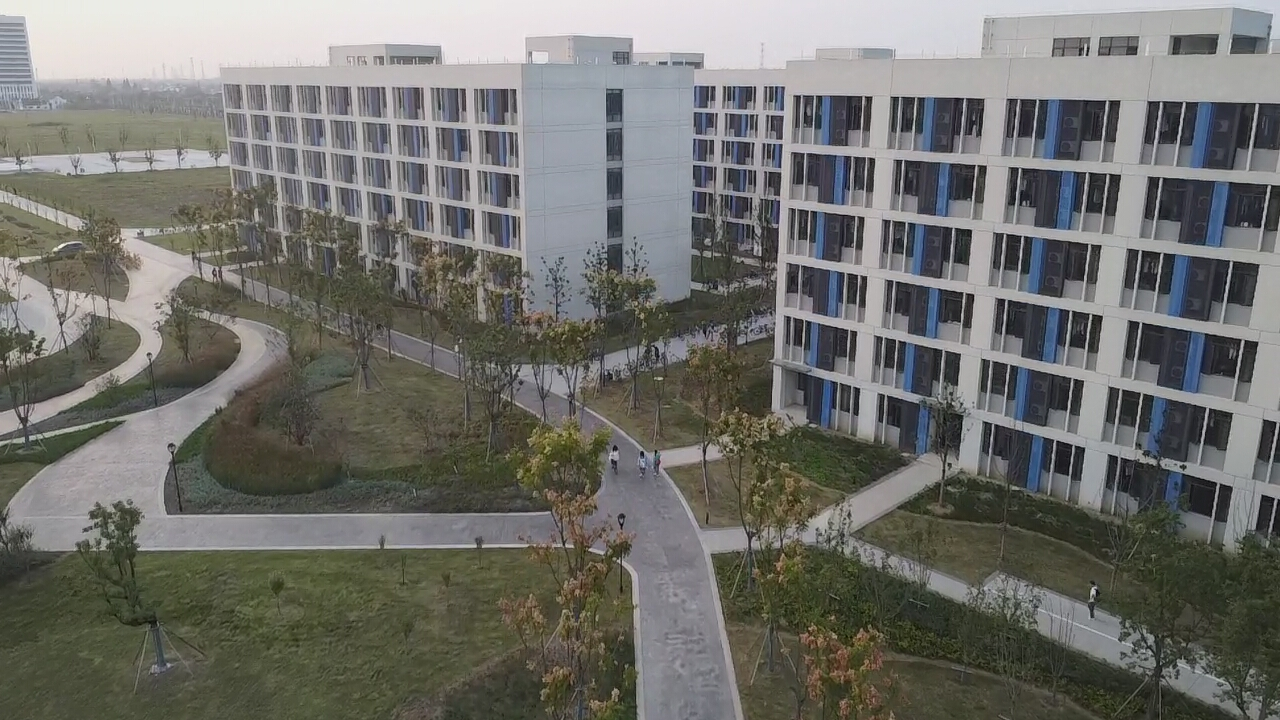person: (638, 442, 661, 473), (604, 435, 621, 470)
